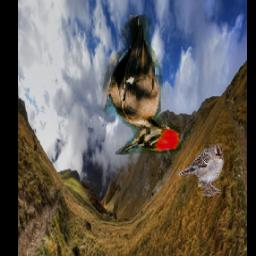Sparrow: (177, 143, 224, 196)
Woodpecker: (100, 16, 181, 156)
